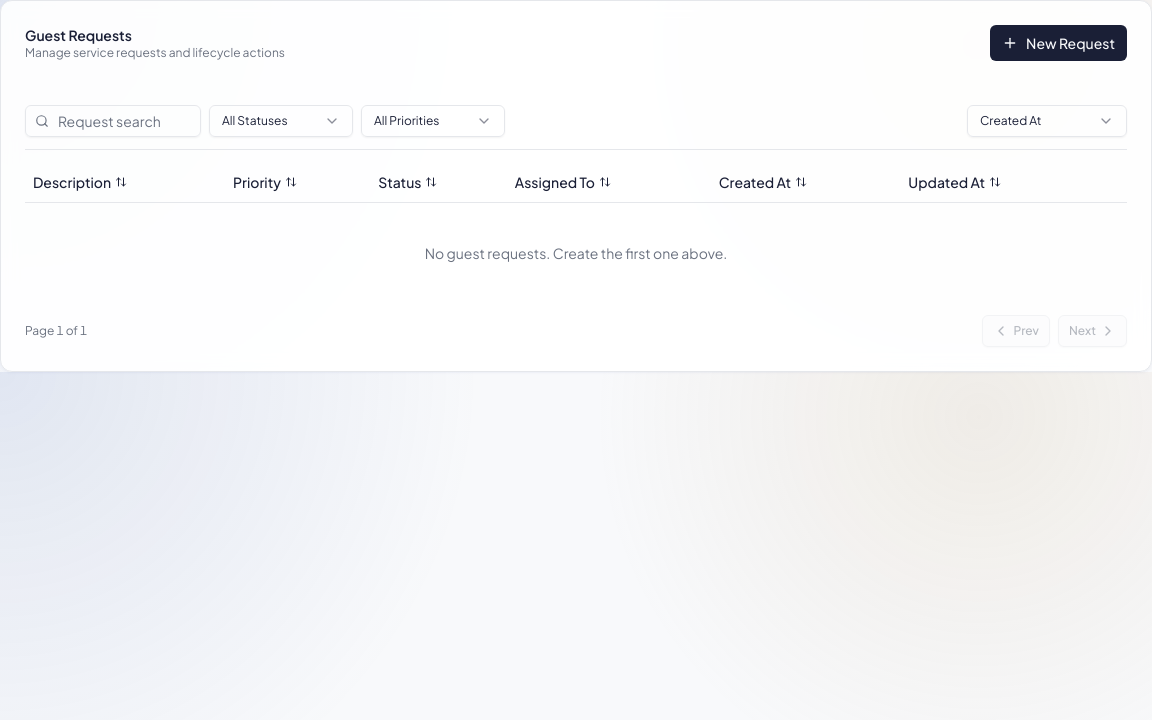
Test case: GuestRequestsTab › renders empty state and request dialog
Expected: the text "No guest requests. Create the first one above." is shown, [25, 202, 1127, 302]
Click the button "New Request": (1058, 43) [990, 25, 1127, 61]
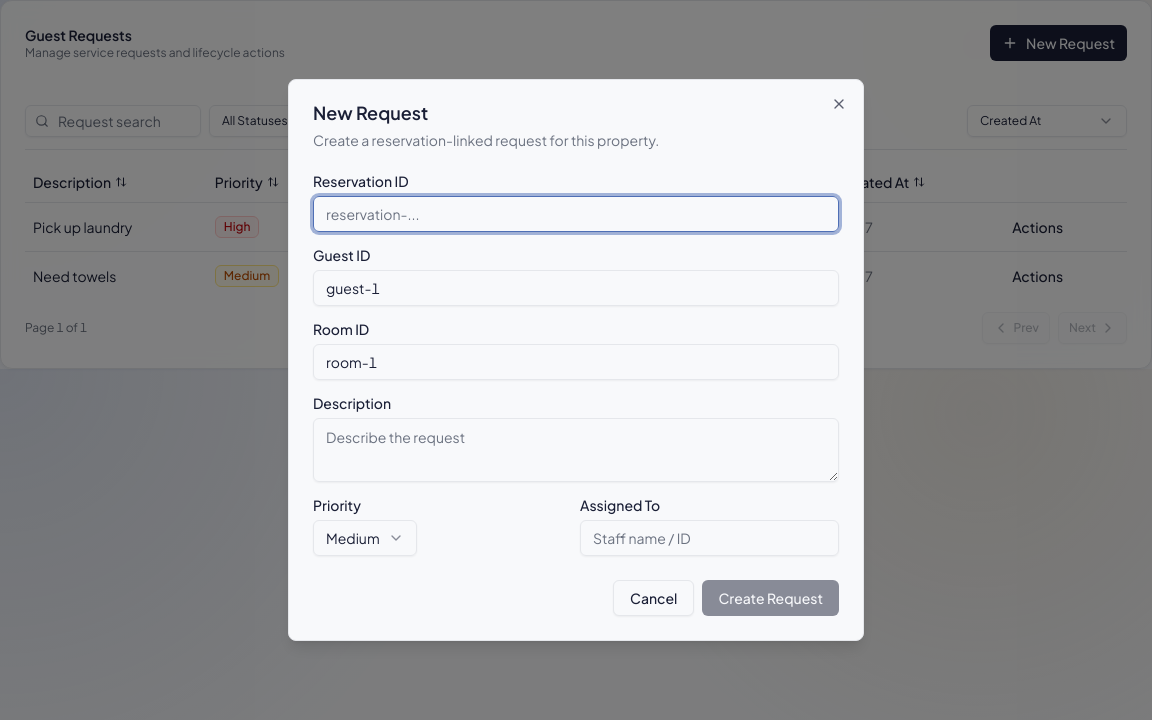
Result: the heading "New Request" is shown at [313, 101, 428, 124]
Result: the field labelled "Guest ID" holds "guest-1" at [313, 270, 839, 306]
Result: the field labelled "Room ID" holds "room-1" at [313, 344, 839, 380]
